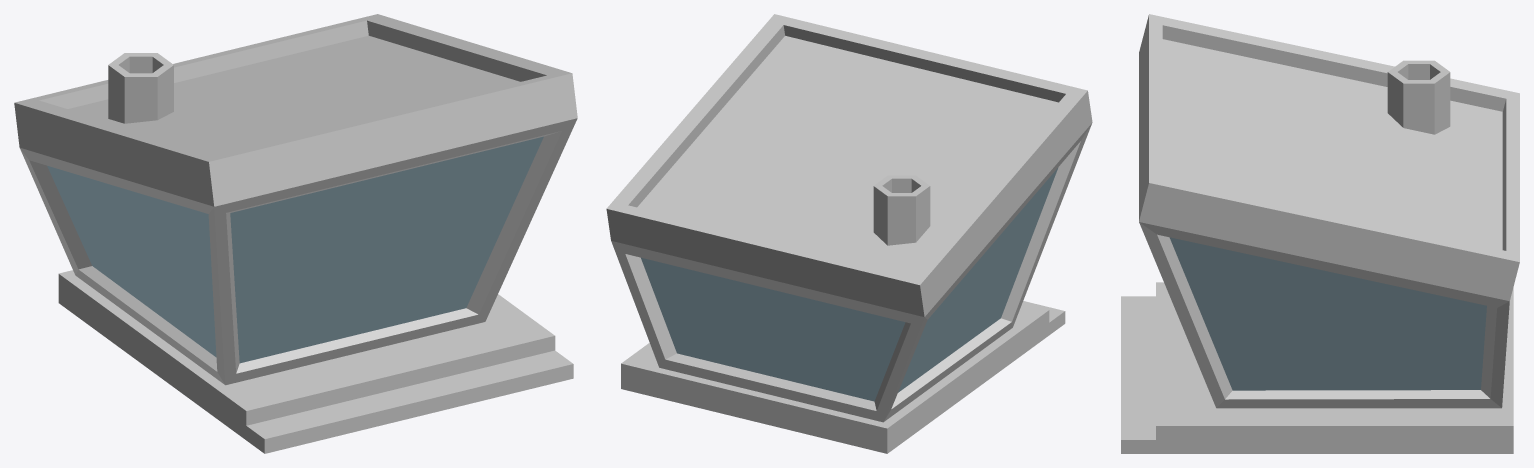
Rendered from Weird building.fbx.
The picture shows the model from 3 angles, left to right: view 1: azimuth 30°, elevation 25°; view 2: azimuth 150°, elevation 25°; view 3: azimuth 270°, elevation 25°; orthographic projection. The views are drawn at different scales.
Parts seen in each view (by area): view 1: Weird building; view 2: Weird building; view 3: Weird building.
Part boxes in pixels (x1,y1,x2,y2): Weird building: (14,14,577,453); Weird building: (606,14,1092,453); Weird building: (1121,14,1519,453).
Size of the model in its own units: 517 by 396 by 516.
